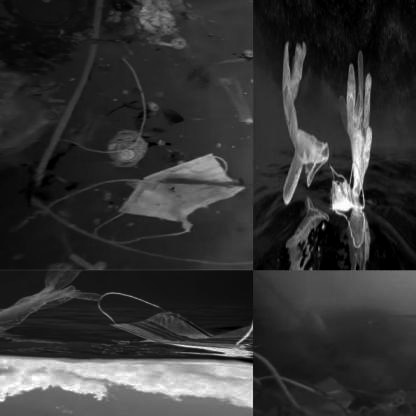Mask: (91, 155, 247, 248), (98, 284, 252, 350), (253, 330, 371, 416), (328, 164, 367, 216)
glove: (281, 40, 329, 208), (0, 270, 99, 333), (338, 51, 373, 197)
